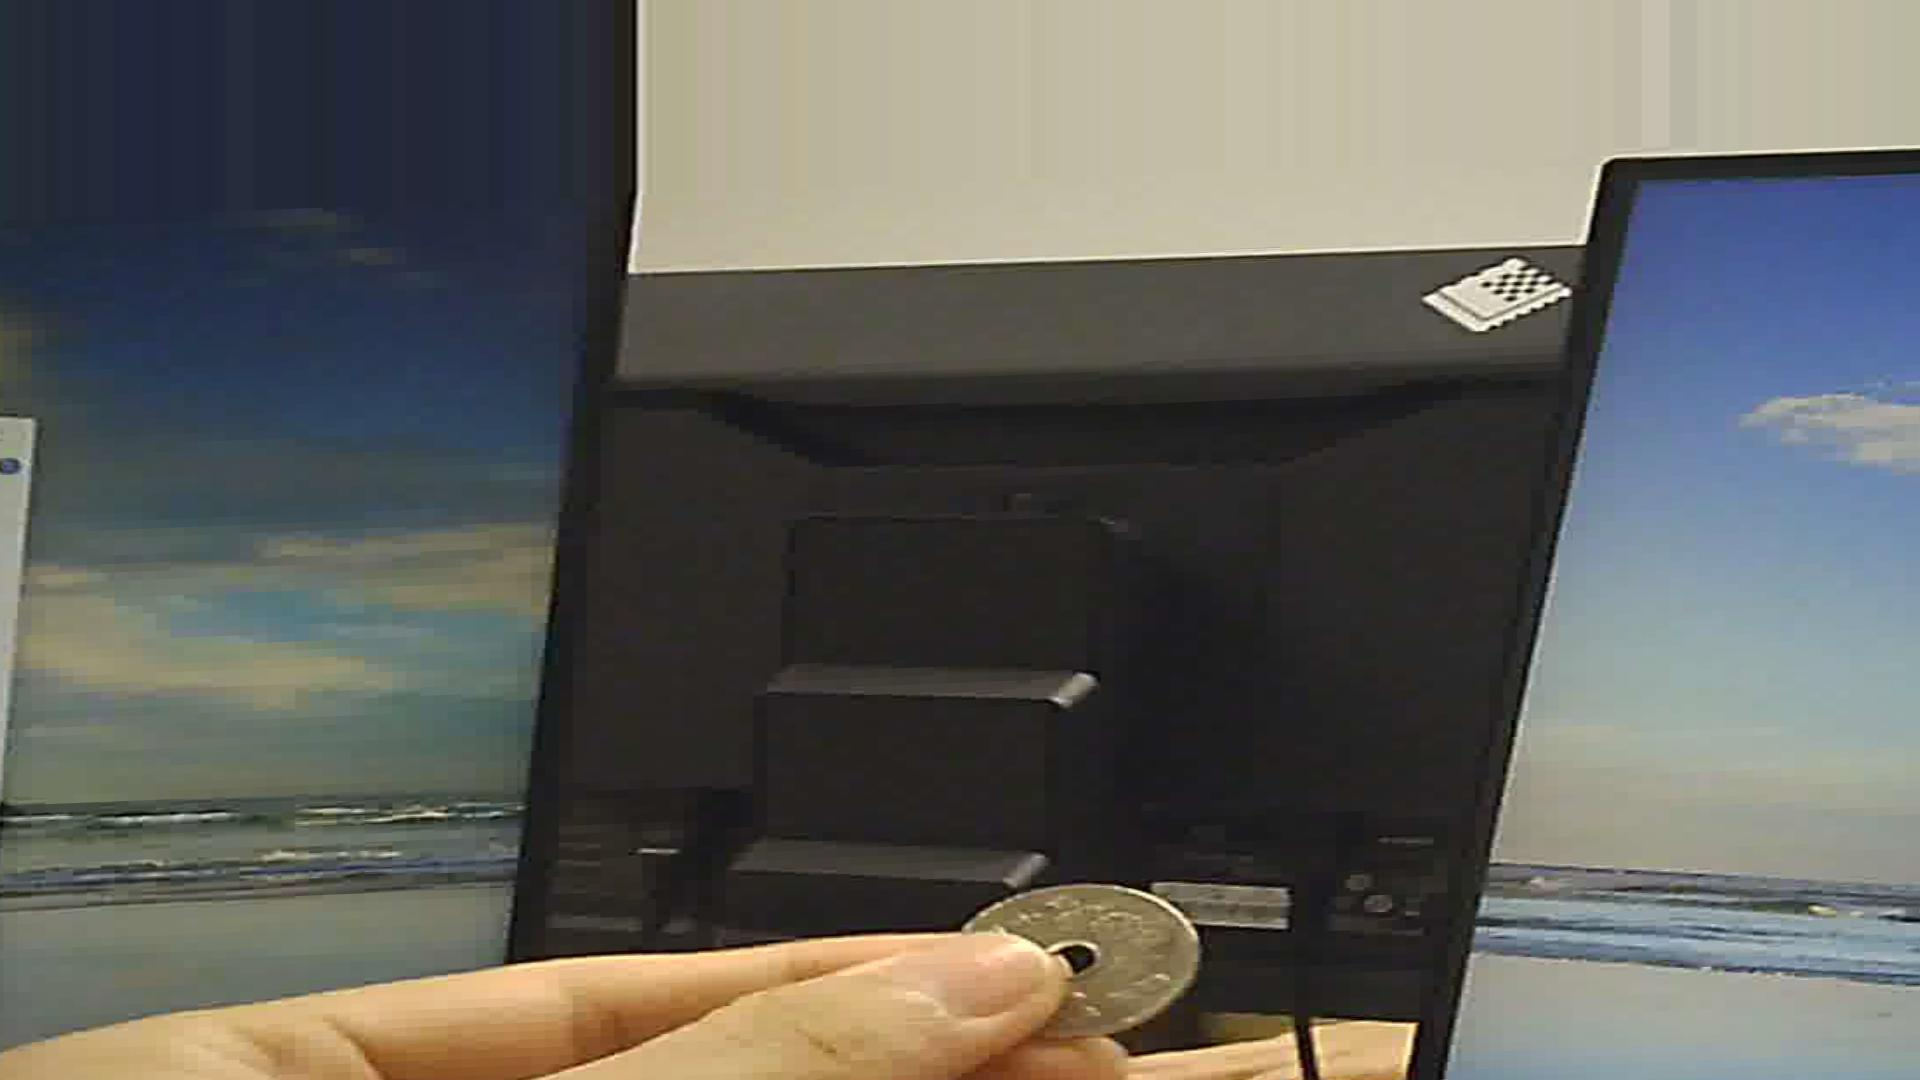50 Yen: (953, 887, 1207, 1040)
